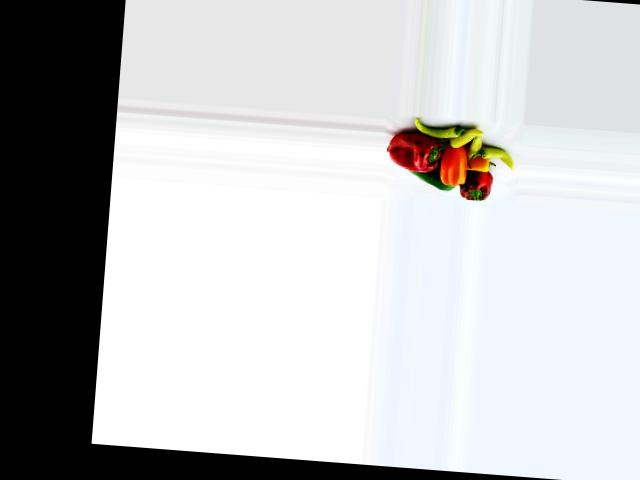bell_pepper: (409, 118, 469, 139)
